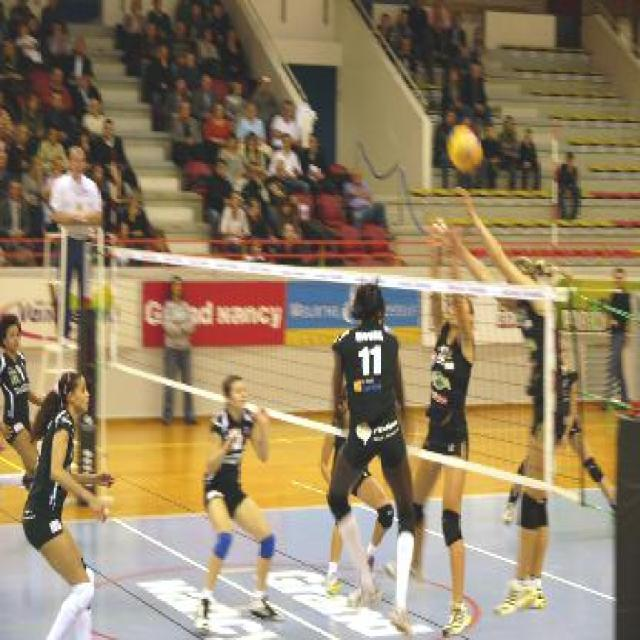volleyball: (446, 125, 482, 173)
